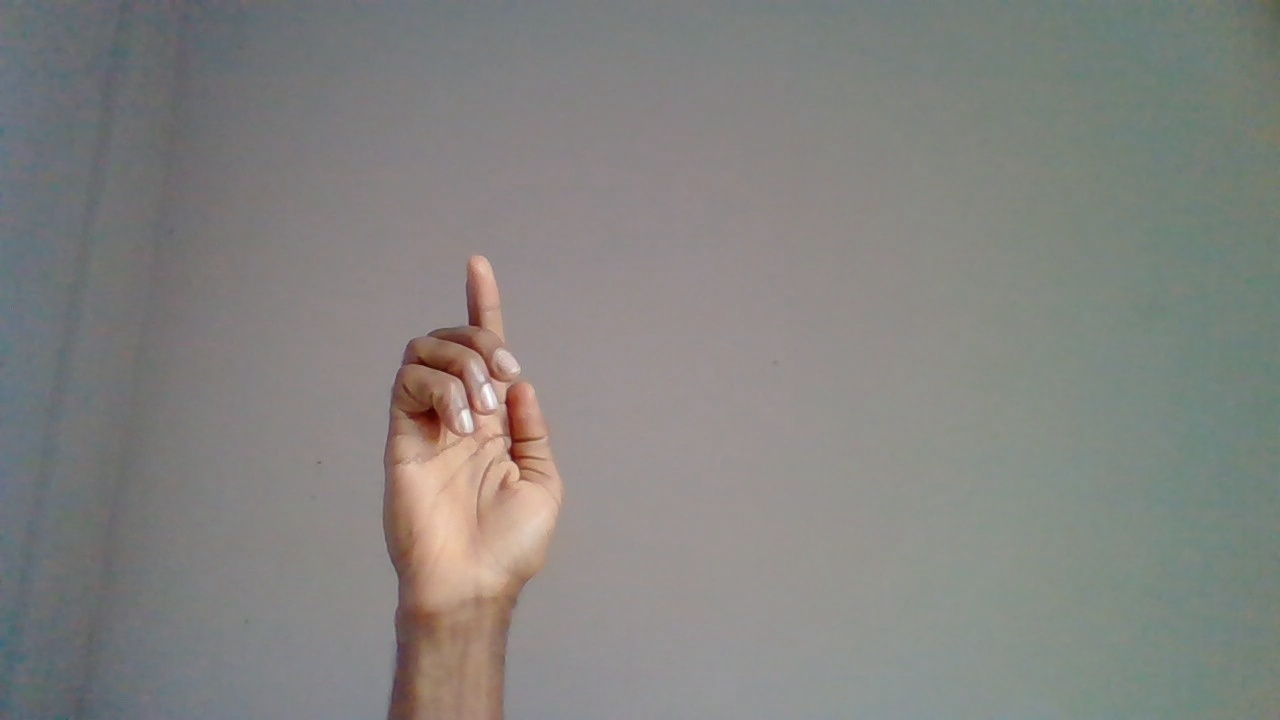qe: (379, 256, 578, 675)
